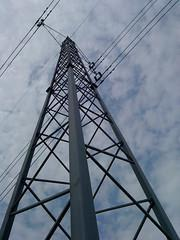power_tower: (5, 24, 172, 239)
